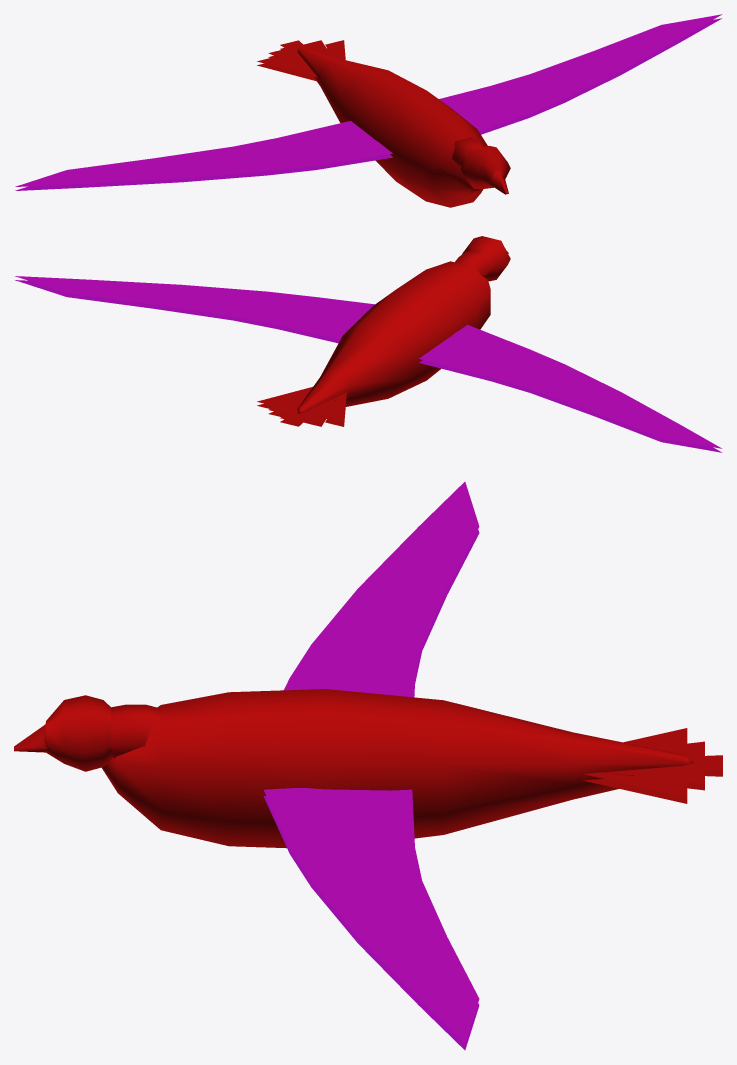
Rendered from booby.glb.
3 renders of one model, top to bottom at view 1: azimuth 30°, elevation 25°; view 2: azimuth 150°, elevation 25°; view 3: azimuth 270°, elevation 25°, orthographic. The views are drawn at different scales.
Parts seen in each view (by area): view 1: bird; view 2: bird; view 3: bird.
Boxes of the visible parts, x1,y1,x2,y2 form: bird: (15,14,721,207); bird: (15,236,722,452); bird: (14,481,722,1050).
Size of the model in its own units: 1.45 by 0.1641 by 0.7734.
